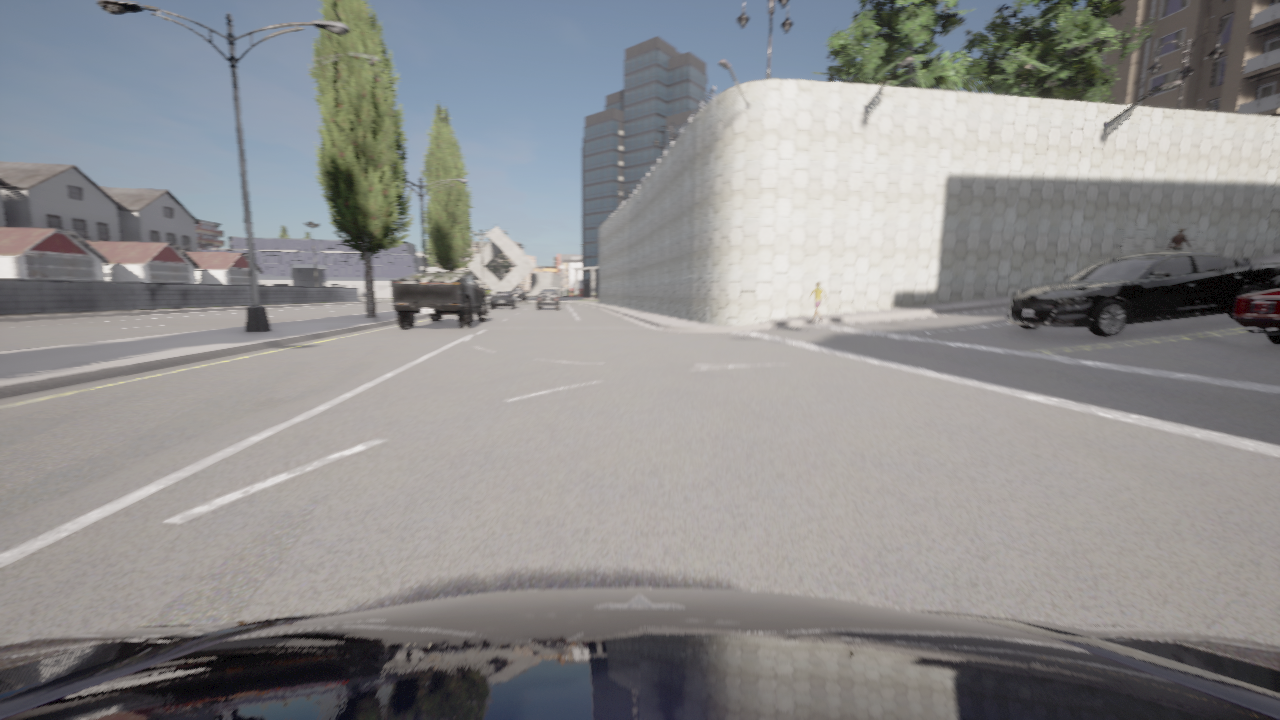cyclist: (0, 588, 1279, 719), (1007, 249, 1279, 336), (391, 271, 488, 328), (1234, 288, 1279, 344), (490, 291, 518, 308), (538, 290, 559, 309), (512, 290, 529, 304)
pedestrian: (809, 281, 826, 320), (1167, 227, 1191, 250)
